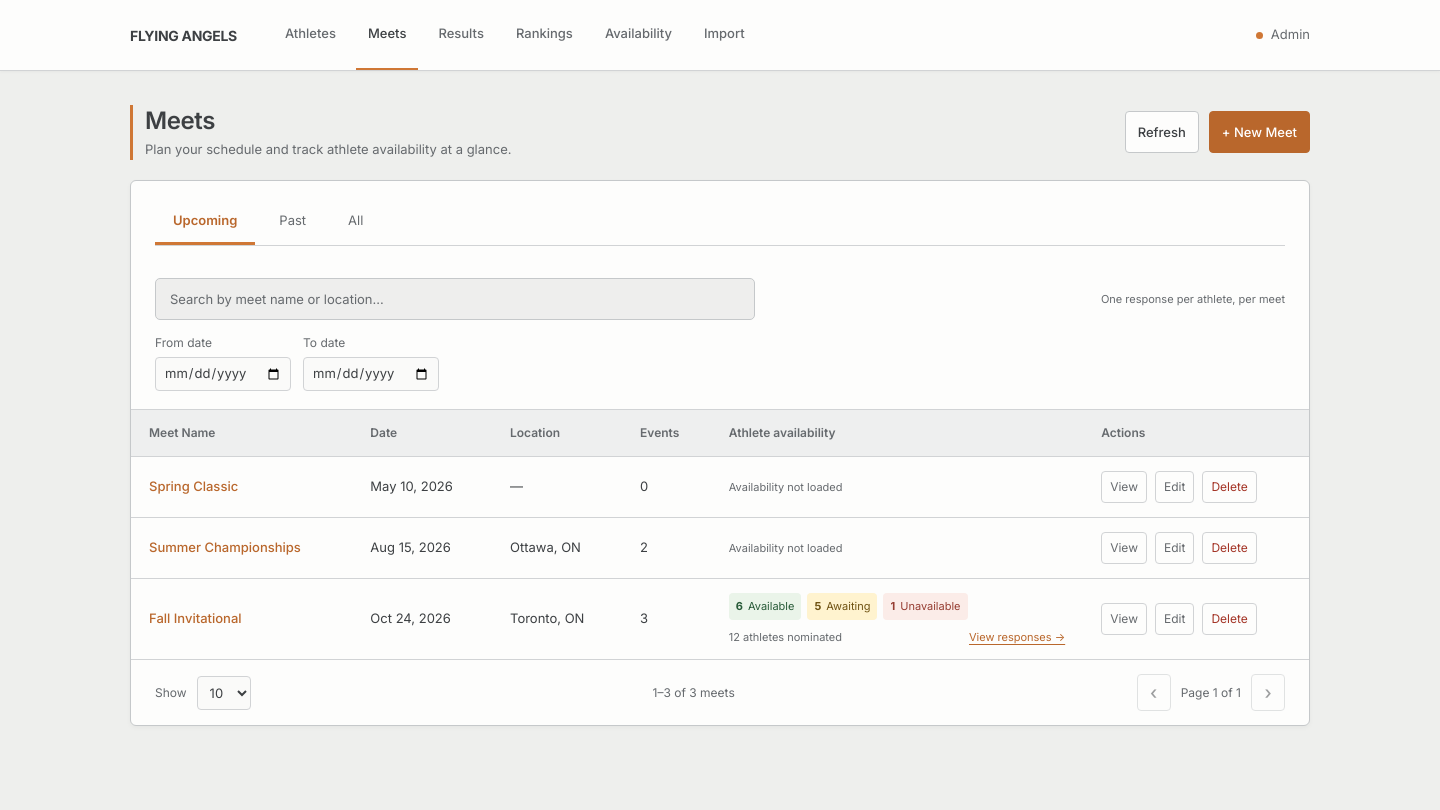
Test: Meets List › creates a multi-day meet with its selected end date
Check: the column heading "Fall Invitational" is shown, box [131,579,352,659]
Click the button "+ New Meet".
click(1259, 132)  # box [1209,111,1310,153]
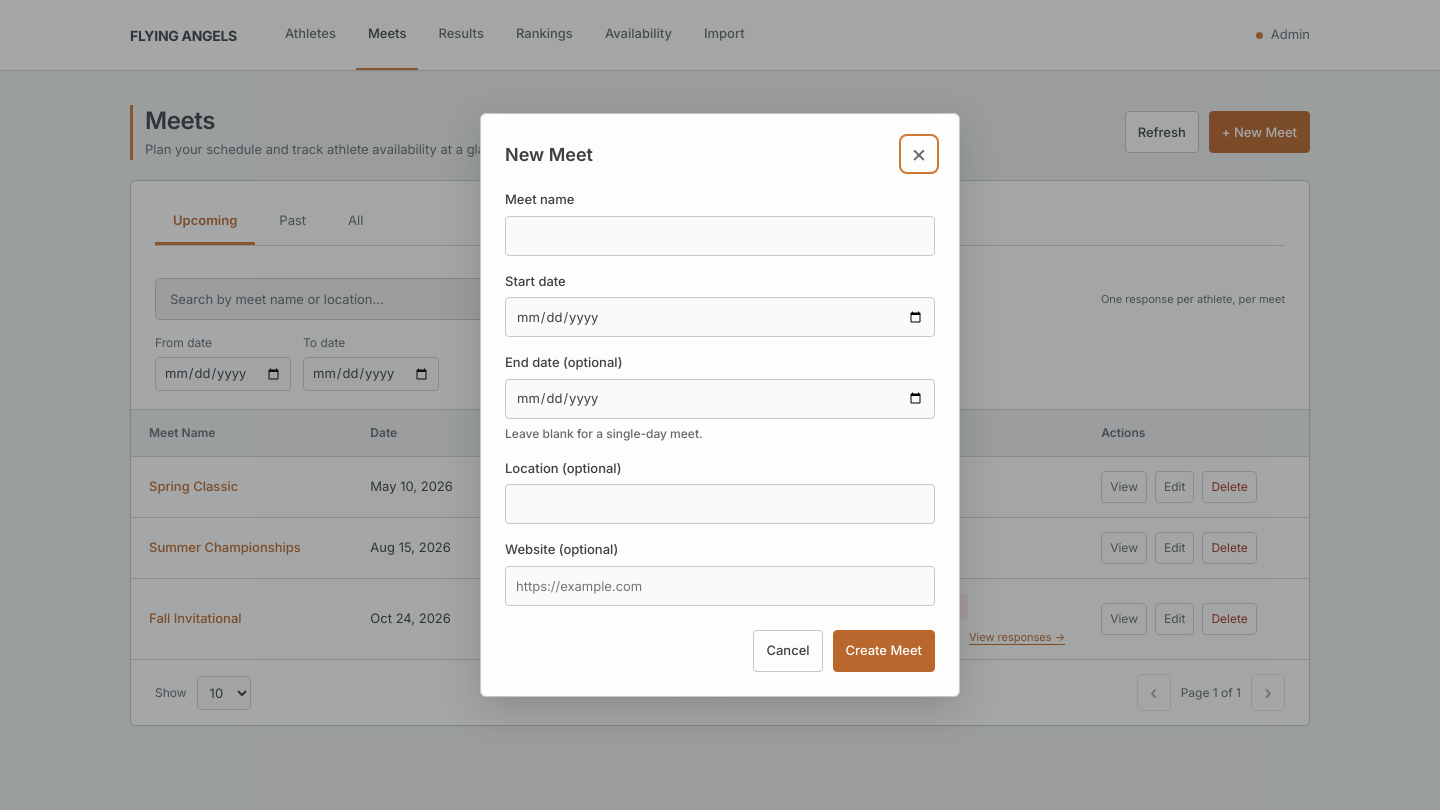
Type "Weekend Meet" into the field labelled "Meet name".
click(720, 236); type("Weekend Meet")  # box [505,216,935,256]
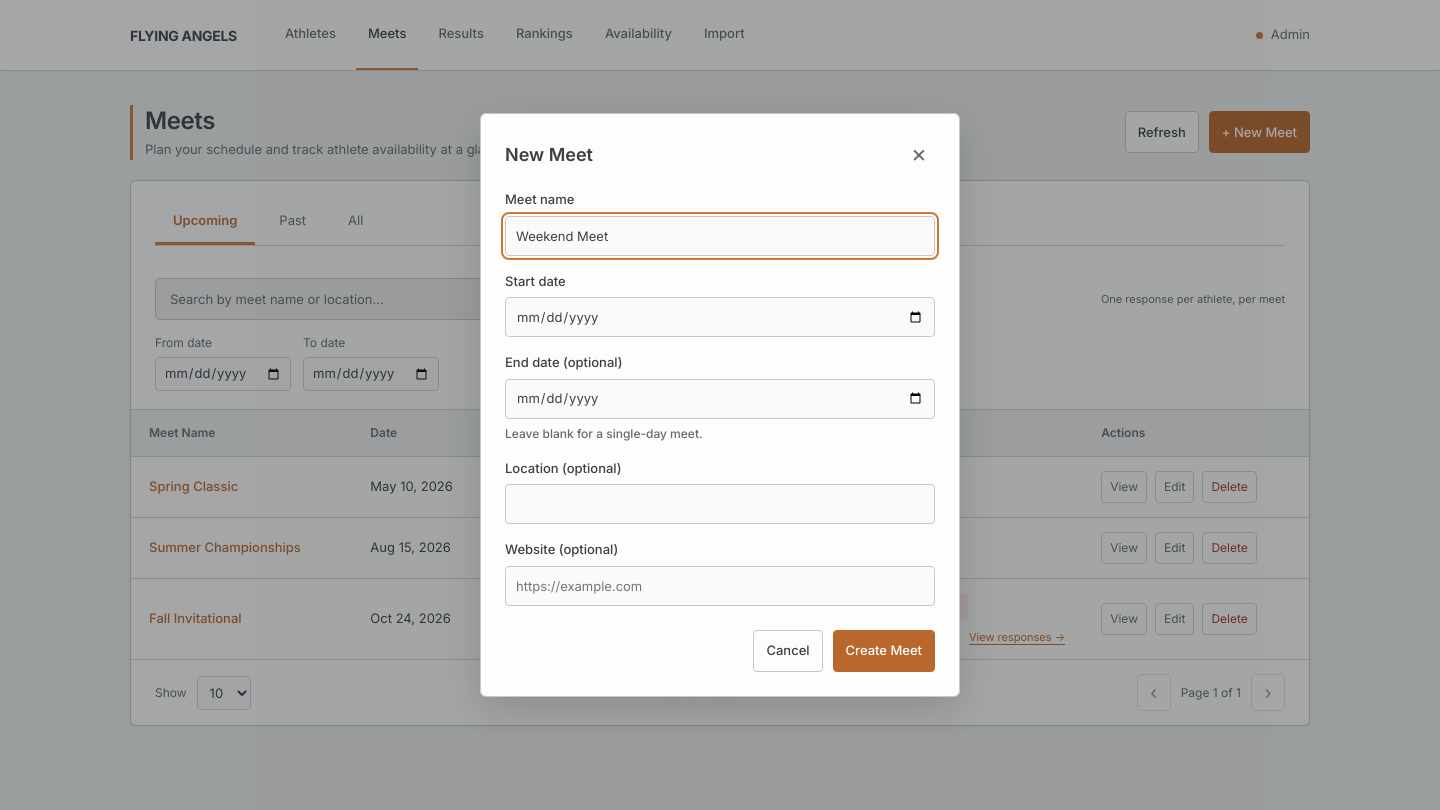
Type "2026-10-24" into the date field labelled "Start date".
click(720, 317); type("2026-10-24")  # box [505,297,935,337]
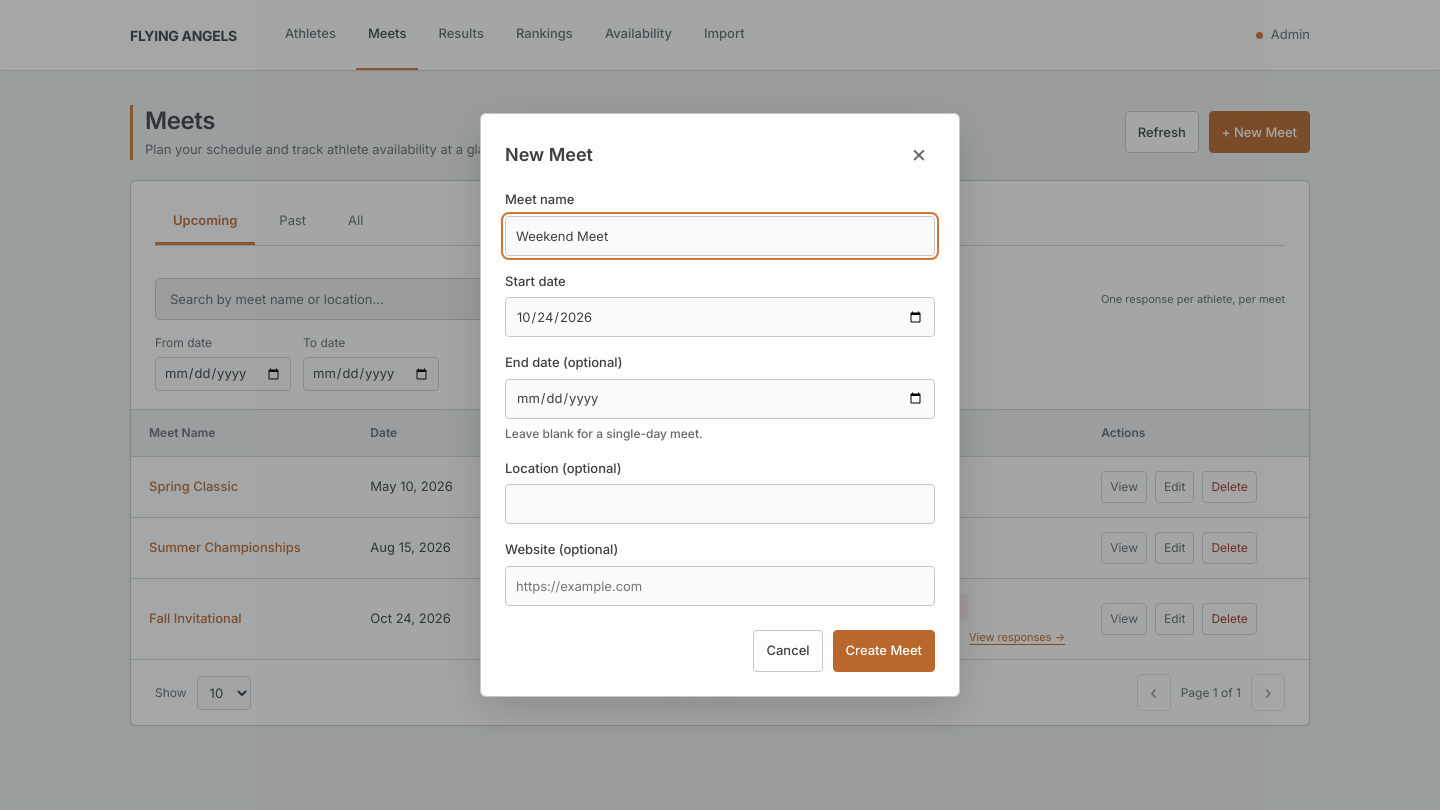
Type "2026-10-25" into the date field labelled "End date (optional) Leave blank for a single-day meet.".
click(720, 399); type("2026-10-25")  # box [505,379,935,419]
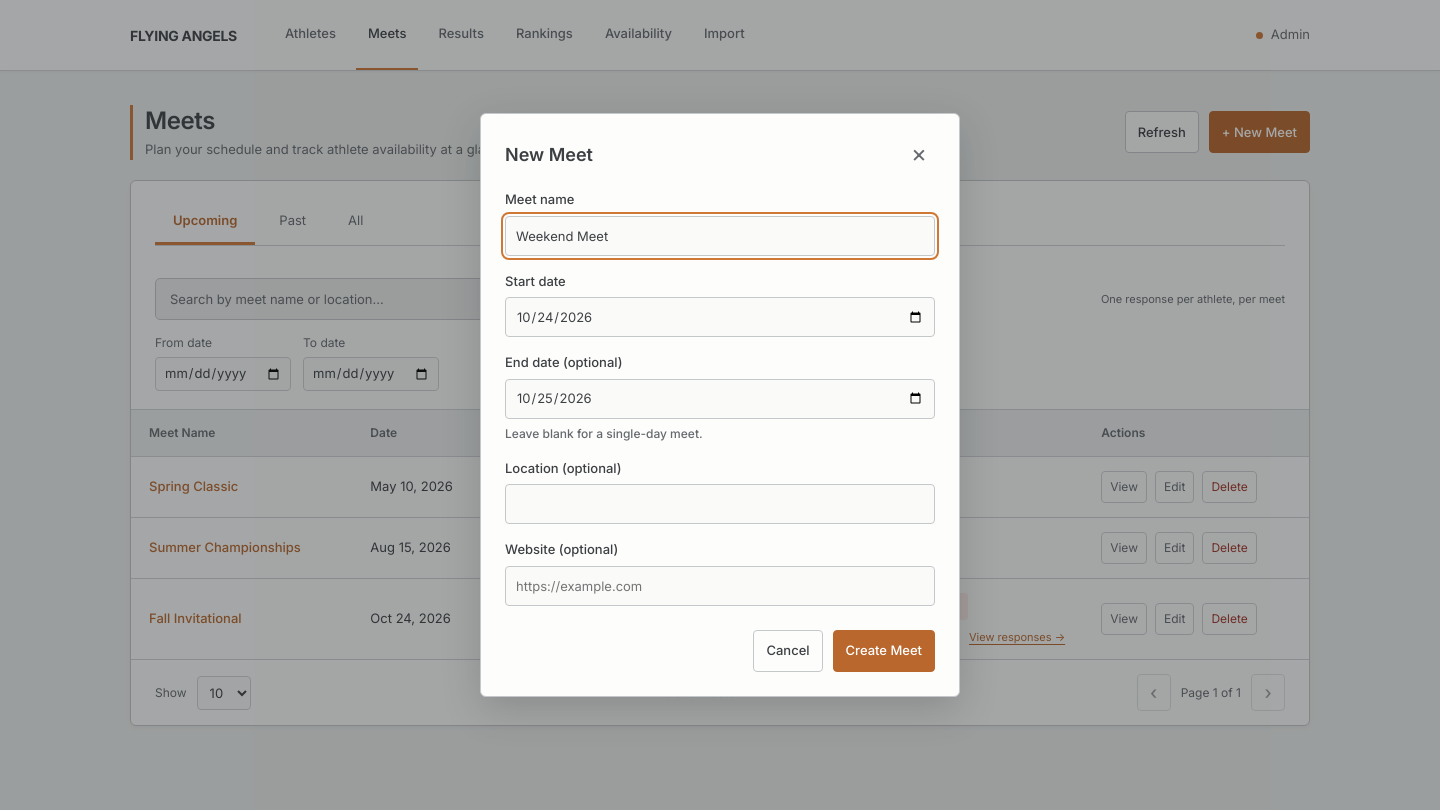
Click the button "Create Meet".
click(884, 651)  # box [833,630,935,672]
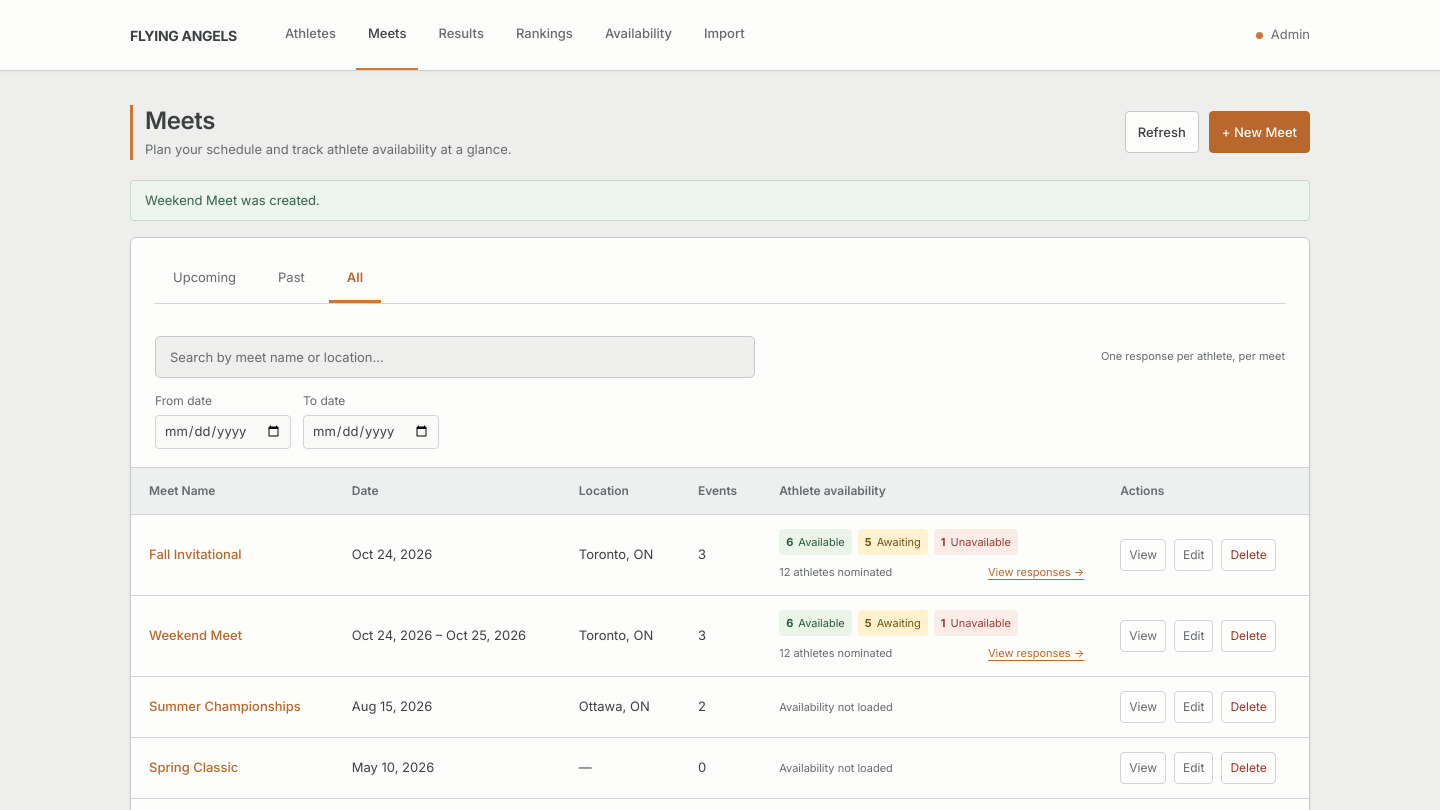
Check: the column heading "Weekend Meet" is shown, box [131,595,334,676]
